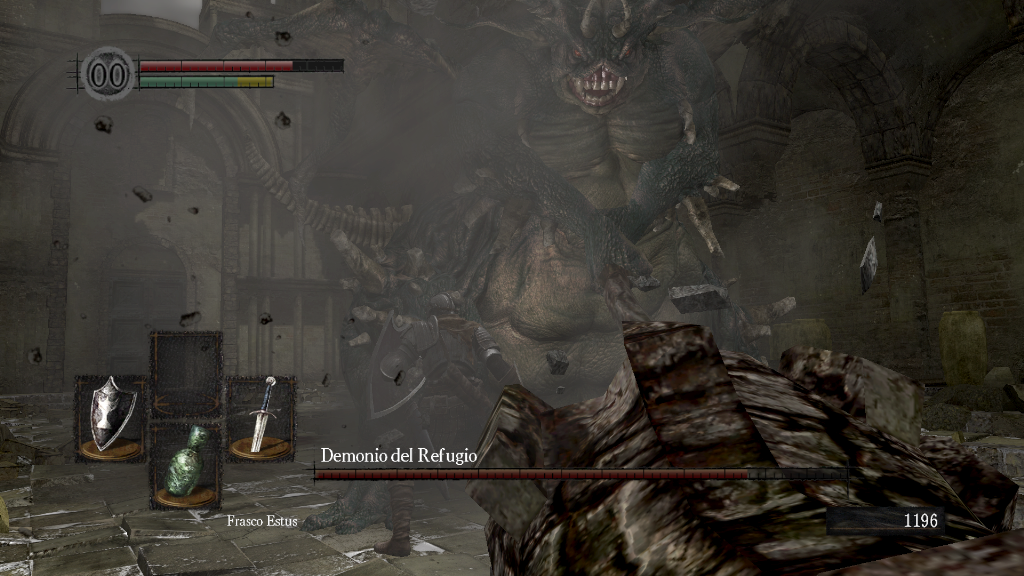asylumDemon: (248, 1, 1024, 575)
bossHP: (314, 469, 847, 479)
health: (138, 58, 343, 71)
humanity: (80, 45, 136, 102)
souls: (825, 506, 945, 536)
stamina: (138, 74, 274, 88)
